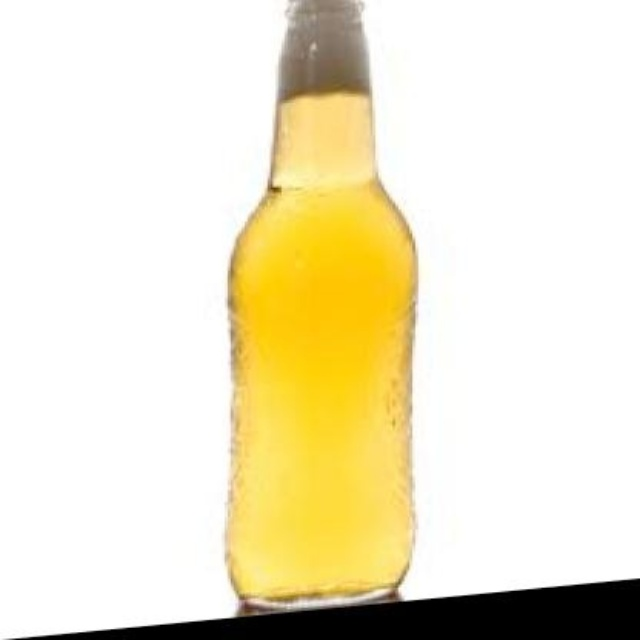trash: (228, 0, 415, 609)
